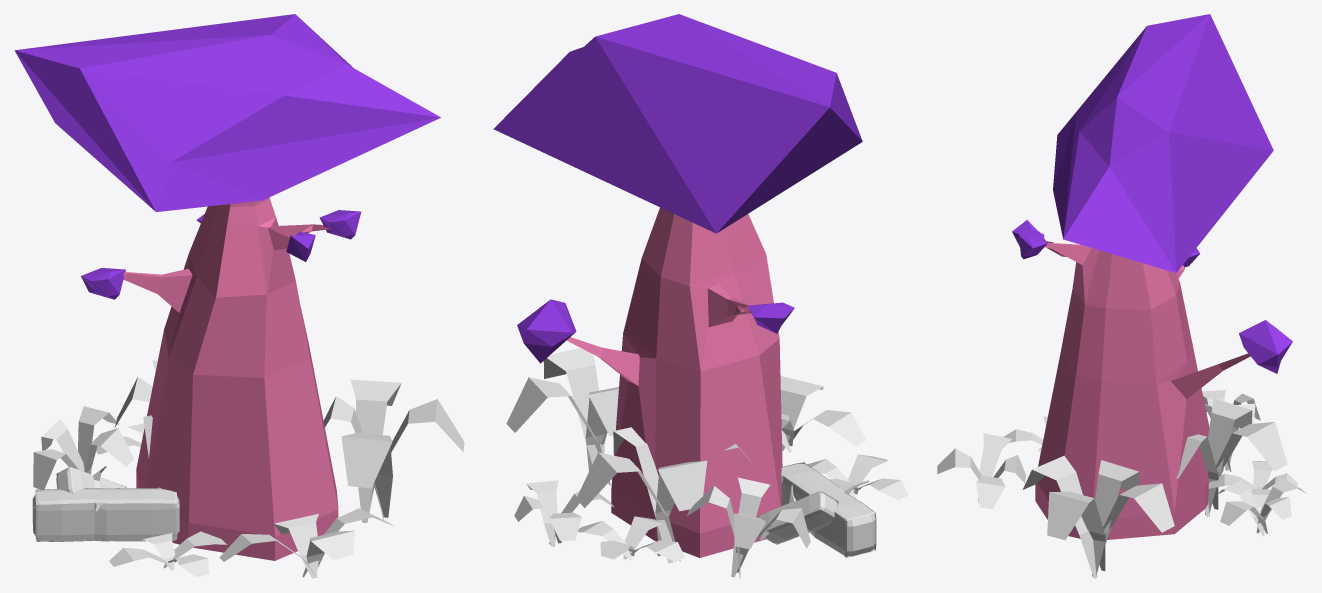
File: CaminoSinHexagono2.fbx
3 renders of one model, left to right at view 1: azimuth 30°, elevation 25°; view 2: azimuth 150°, elevation 25°; view 3: azimuth 270°, elevation 25°, orthographic. The views are drawn at different scales.
Visible parts, largest first — view 1: Esfera geodésica, Cube, Cubo, Plano.029, Plano.031, Plano.028, Plano.016, Plano.018, Cubo.001, Plano.012, Esfera geodésica.001, Plano.015 (+9 smaller); view 2: Esfera geodésica, Cube, Cubo, Plano.028, Esfera geodésica.002, Plano.034, Cubo.001, Plano.035, Plano.031, Plano.030, Plano.032, Plano.016 (+13 smaller); view 3: Esfera geodésica, Cube, Plano.028, Plano.030, Plano.034, Plano.029, Esfera geodésica.002, Plano.031, Plano.035, Plano.032, Plano.017, Plano.019 (+5 smaller).
Boxes of the visible parts, box(x1,y1,x2,y2) form: Esfera geodésica: box(14, 14, 440, 211); Cube: box(123, 197, 338, 560); Cubo: box(32, 487, 179, 541); Plano.029: box(341, 432, 392, 517); Plano.031: box(350, 379, 401, 522); Plano.028: box(369, 399, 464, 502); Plano.016: box(306, 530, 354, 566); Plano.018: box(274, 514, 318, 578); Cubo.001: box(55, 466, 126, 493); Plano.012: box(84, 428, 133, 474); Esfera geodésica.001: box(81, 268, 125, 299); Plano.015: box(78, 406, 118, 470); Esfera geodésica: box(493, 14, 862, 233); Cube: box(566, 207, 782, 557); Cubo: box(781, 462, 876, 557); Plano.028: box(543, 348, 604, 464); Esfera geodésica.002: box(517, 299, 576, 363); Plano.034: box(655, 460, 707, 555); Cubo.001: box(758, 485, 838, 544); Plano.035: box(576, 452, 680, 561); Plano.031: box(506, 377, 610, 485); Plano.030: box(585, 387, 618, 471); Plano.032: box(613, 427, 673, 563); Plano.016: box(780, 376, 823, 450); Esfera geodésica: box(1053, 14, 1273, 272); Cube: box(1035, 241, 1250, 539); Plano.028: box(1047, 491, 1105, 571); Plano.030: box(1092, 460, 1139, 576); Plano.034: box(1205, 398, 1252, 514); Plano.029: box(1023, 455, 1097, 578); Esfera geodésica.002: box(1239, 320, 1292, 373); Plano.031: box(1103, 483, 1174, 544); Plano.035: box(1216, 422, 1287, 476); Plano.032: box(1176, 434, 1218, 509); Plano.017: box(978, 433, 1011, 502); Plano.019: box(976, 476, 1005, 509).
Size of the model in its own units: 17.15 by 21.51 by 16.51.
